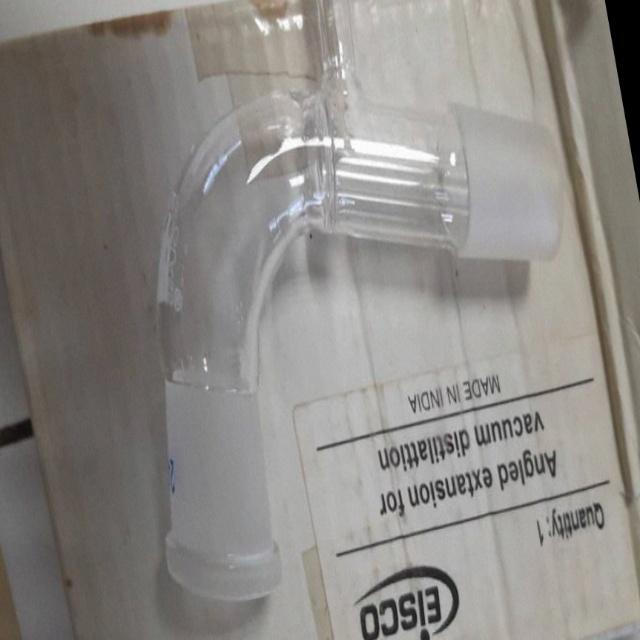Angled Extension for Vacuum Distillation: (61, 0, 628, 620)
